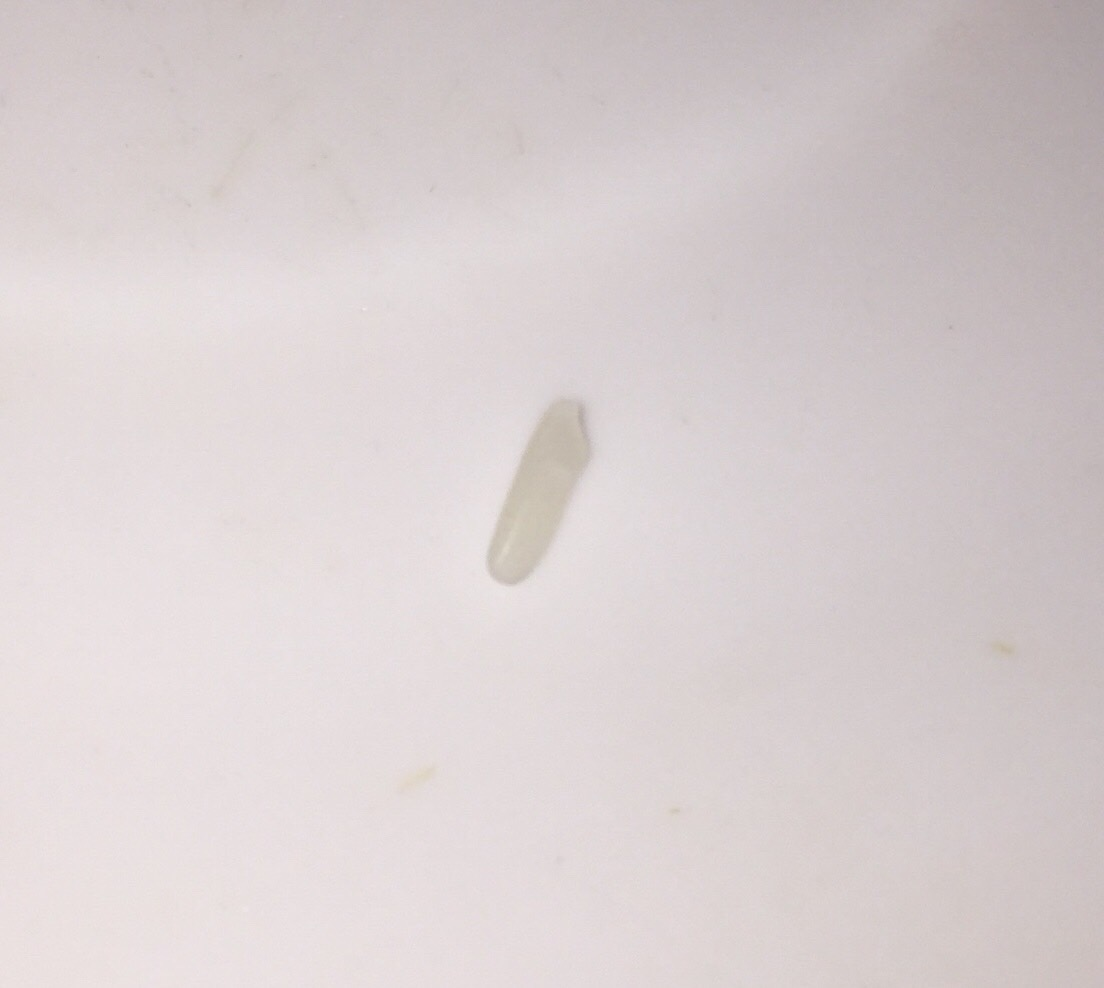Gao Ngoc Troi: (447, 380, 626, 605)
